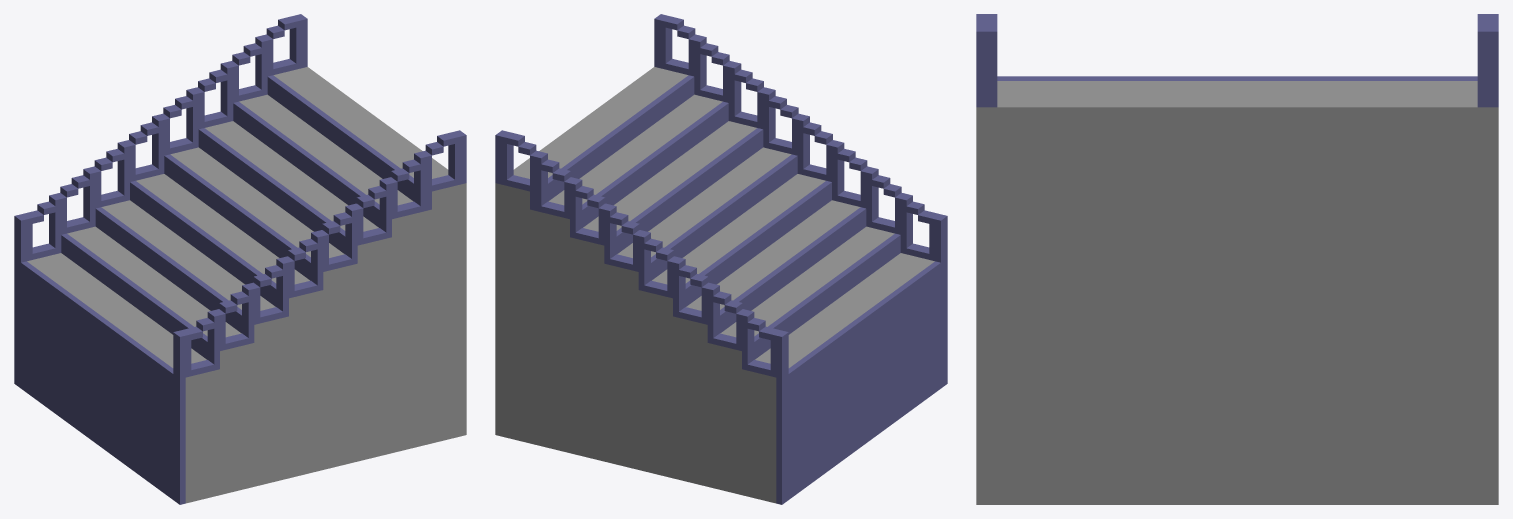
File: Stairs.obj
3 renders of one model, left to right at view 1: azimuth 30°, elevation 25°; view 2: azimuth 150°, elevation 25°; view 3: azimuth 270°, elevation 25°, orthographic. The views are drawn at different scales.
Bounding box in the file's own units: 50 × 50 × 50.
Materials: 1 (1 with a texture image).
